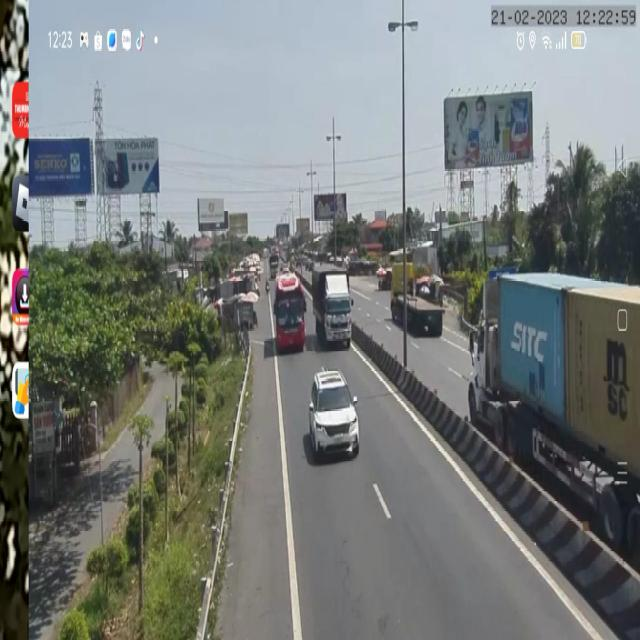bus: (273, 268, 307, 356)
car: (304, 366, 361, 465)
truck: (466, 264, 640, 580), (387, 258, 444, 344), (310, 263, 352, 349)
